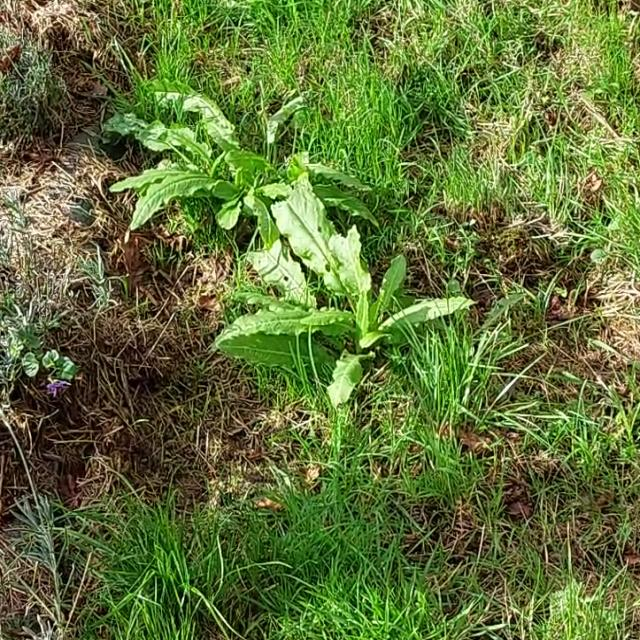organic waste: (218, 177, 477, 408), (96, 71, 361, 272)
